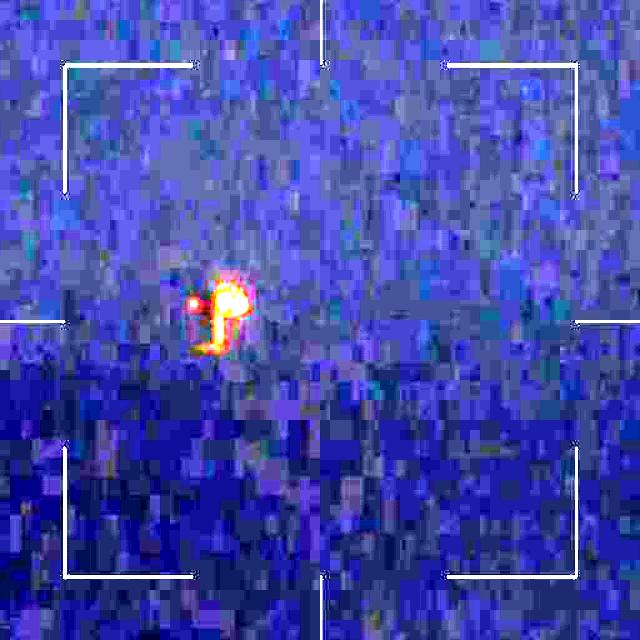bird: (172, 271, 250, 368)
